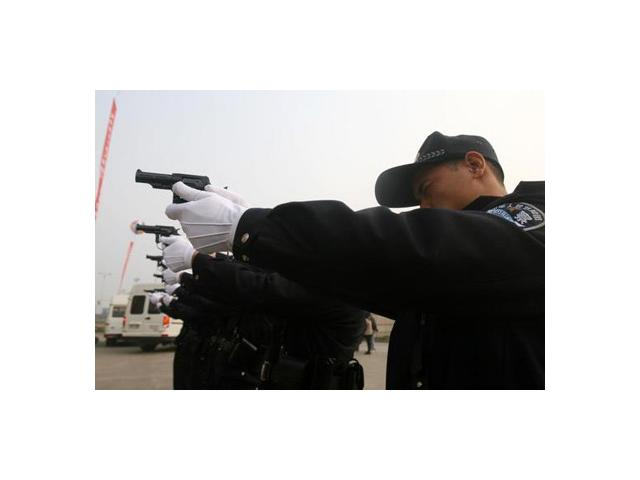pistol: (133, 168, 228, 249), (133, 220, 184, 262)
